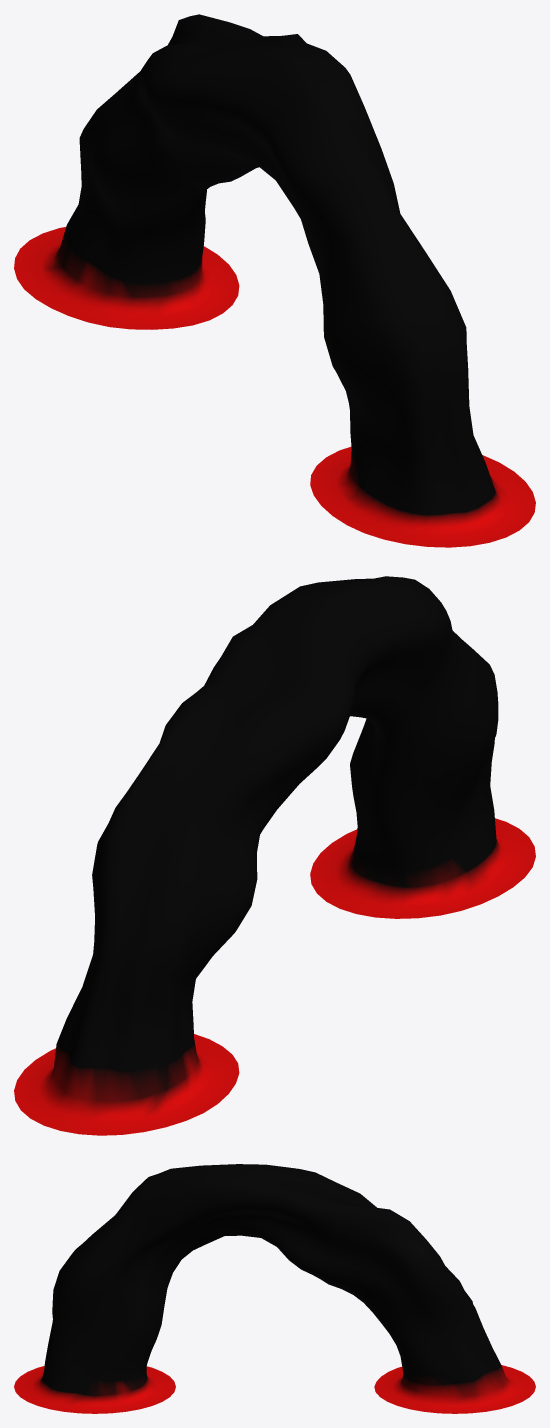
Rendered from GroundObject01A.fbx.
3 renders of one model, top to bottom at view 1: azimuth 30°, elevation 25°; view 2: azimuth 150°, elevation 25°; view 3: azimuth 270°, elevation 25°, orthographic. The views are drawn at different scales.
Visible parts, largest first — view 1: GroundObject01A; view 2: GroundObject01A; view 3: GroundObject01A.
Boxes of the visible parts, <box> form: GroundObject01A: <box>14,14,535,547</box>; GroundObject01A: <box>14,576,535,1135</box>; GroundObject01A: <box>14,1164,535,1413</box>.
Size of the model in its own units: 1.42 by 2.59 by 5.67.
